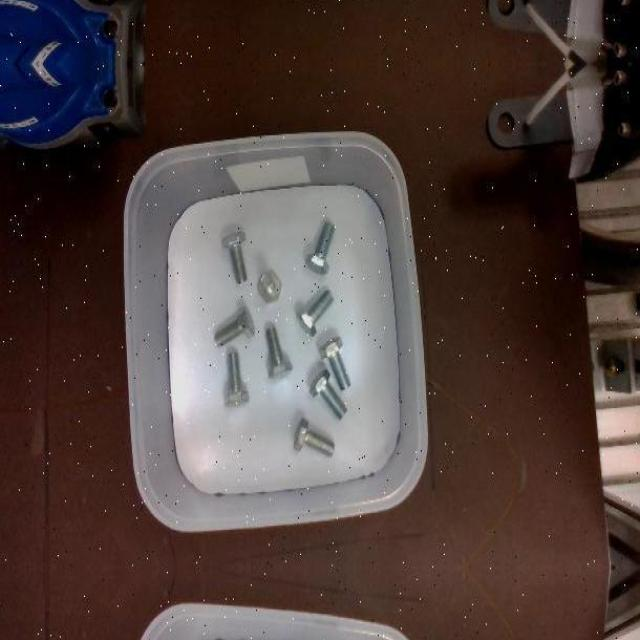screw: (310, 368, 348, 420), (297, 288, 335, 336), (305, 220, 337, 275), (214, 303, 255, 345), (294, 415, 336, 456), (319, 336, 350, 388), (264, 325, 293, 378), (224, 352, 250, 408), (222, 231, 248, 283), (257, 270, 281, 300)
